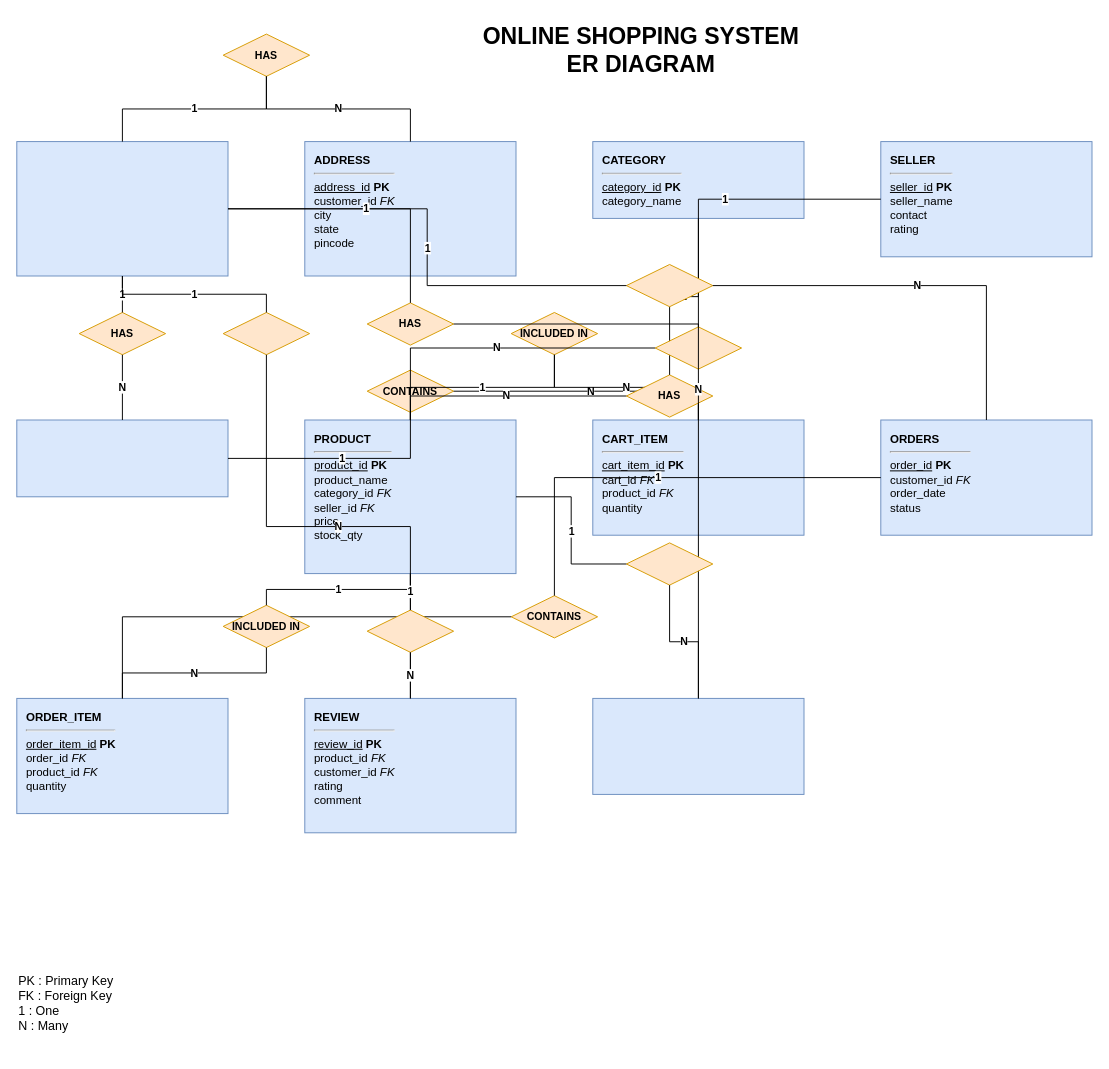
Image size: 1109x1069. Some labels were removed from this diagram. Each missing label, with the centre of its shape:
CART cart_id PK customer_id FK: point (122, 458)
CUSTOMER customer_id PK name email phone password: point (122, 208)
PLACES: point (669, 285)
RECEIVES: point (410, 630)
SAVED IN: point (669, 563)
SELLS: point (698, 347)
WISHLIST wishlist_id PK customer_id FK product_id FK: point (698, 745)
WRITES: point (266, 333)
